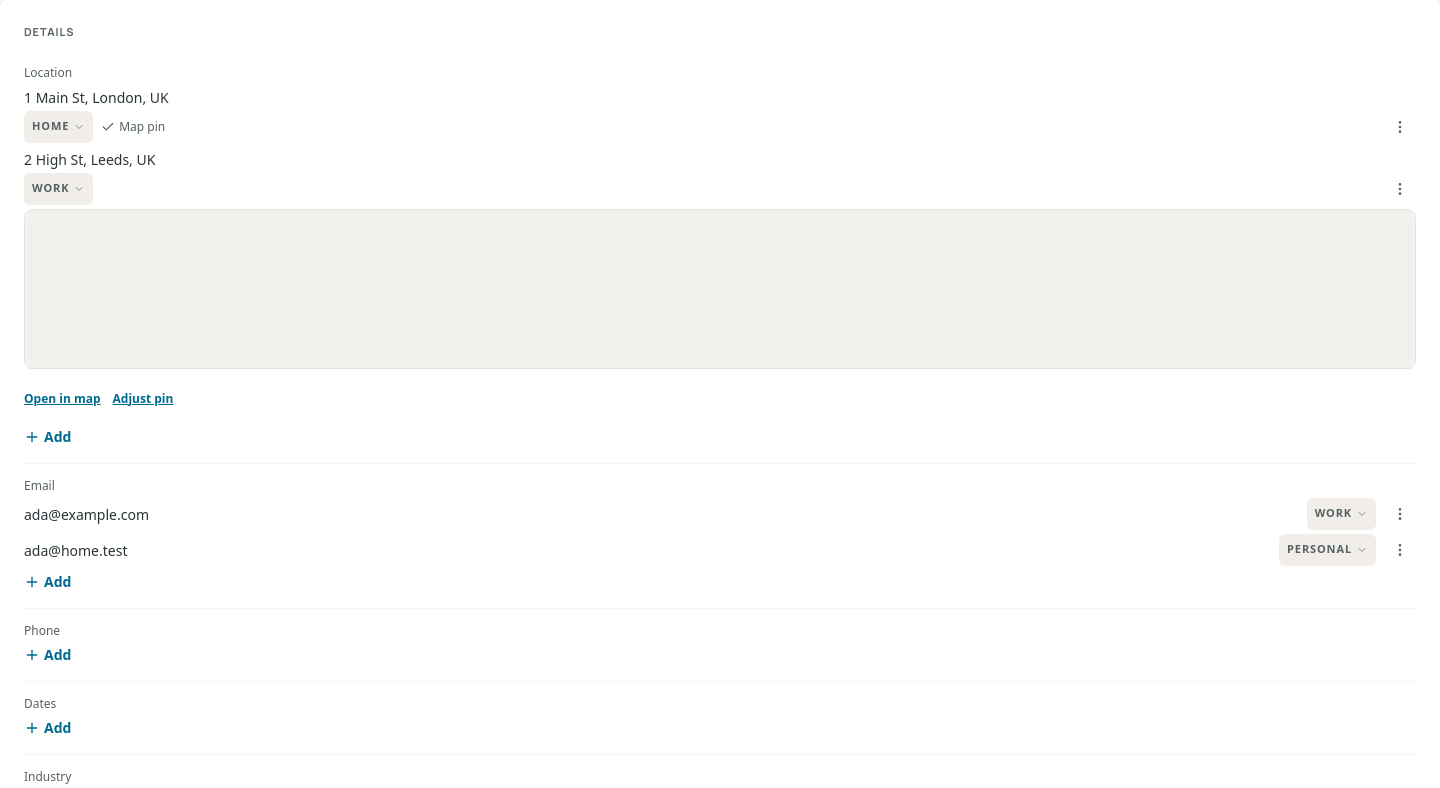
Test case: an add form opened from elsewhere on the page › keeps the date add form open and focuses the custom type input when custom… is chosen
The image size is (1440, 788).
What coordinates should you click on to do the following:
click the button with aria-label "Add date"
I would click on:
 (48, 728)
Its box is [18,716,77,740].
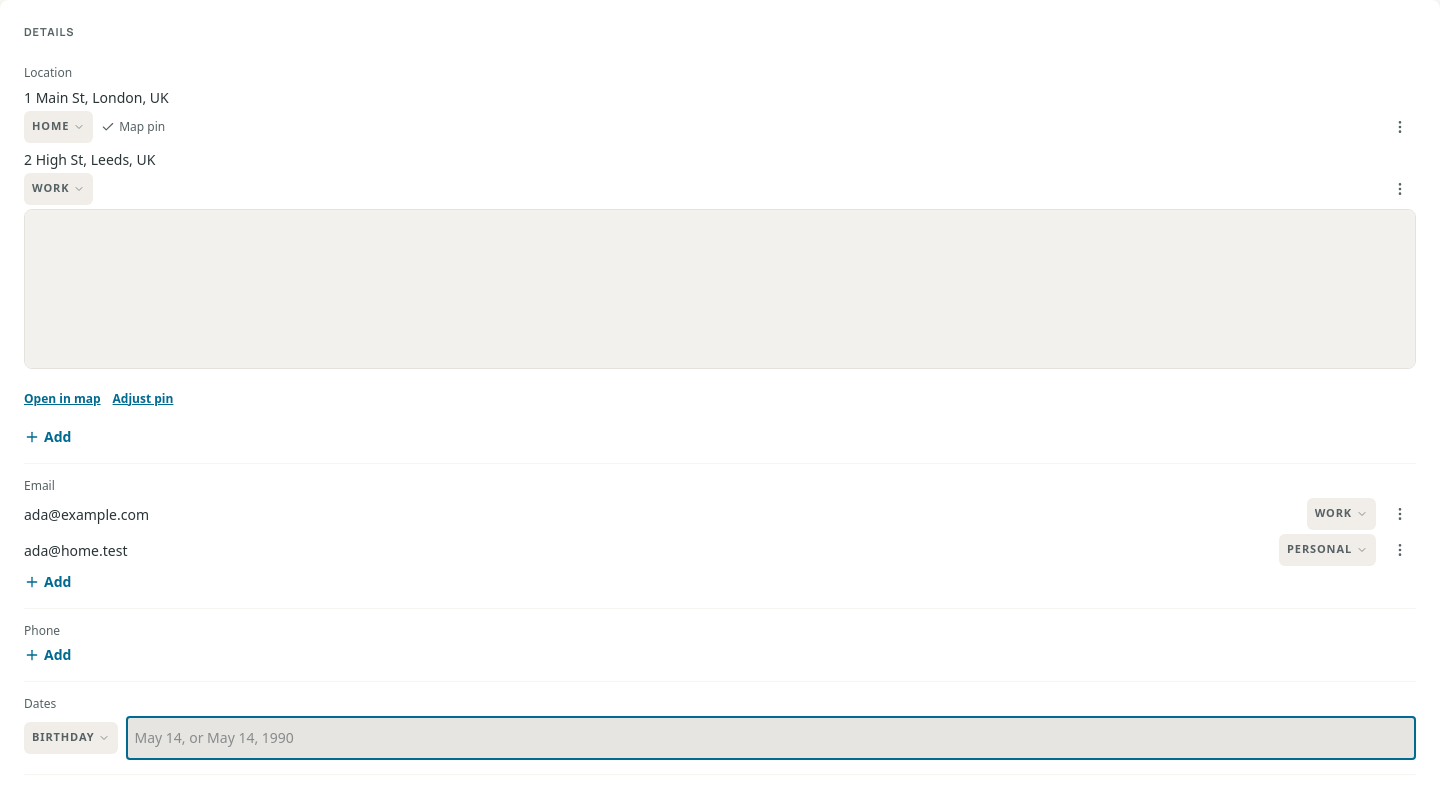
What coordinates should you click on to do the following:
click the dropdown named "Label for new date"
I would click on:
 (71, 738)
Its box is [24,722,118,754].
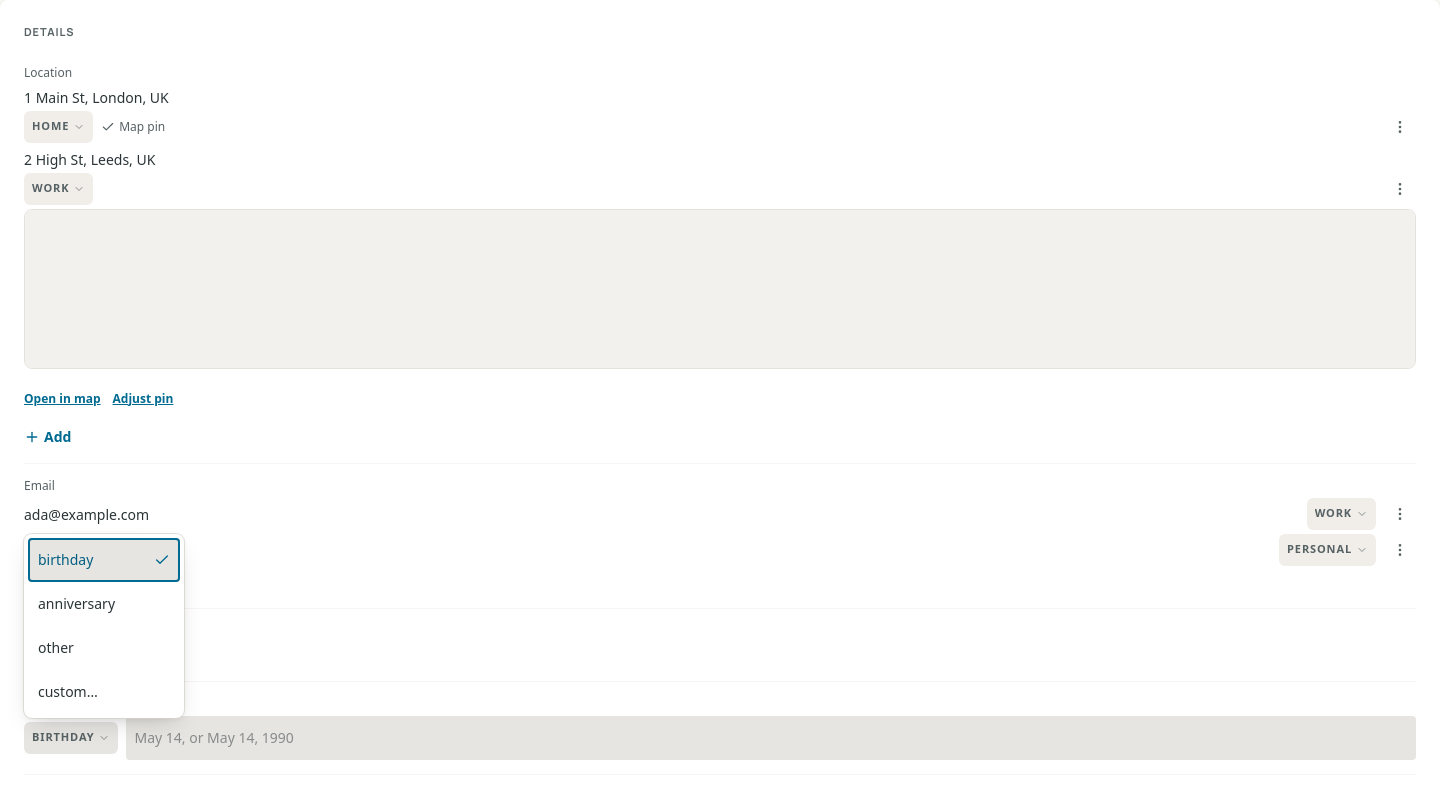
What coordinates should you click on to do the following:
click the option "custom…"
I would click on:
 (104, 692)
Its box is [28,670,180,714].
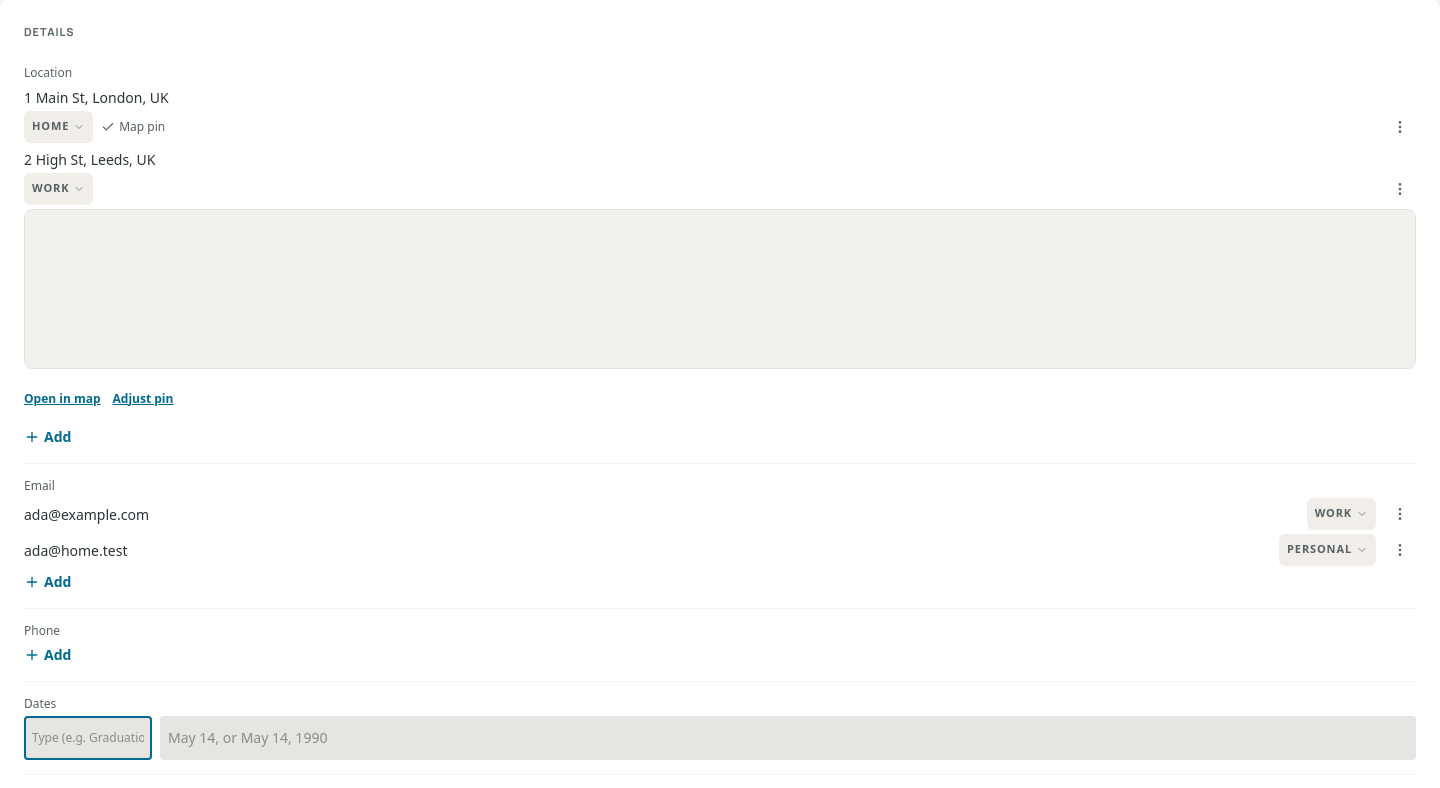
Check: the field named "Birthday" is shown, box [160,716,1416,760]
Check: the field named "Custom date type" is shown, box [24,716,152,760]
